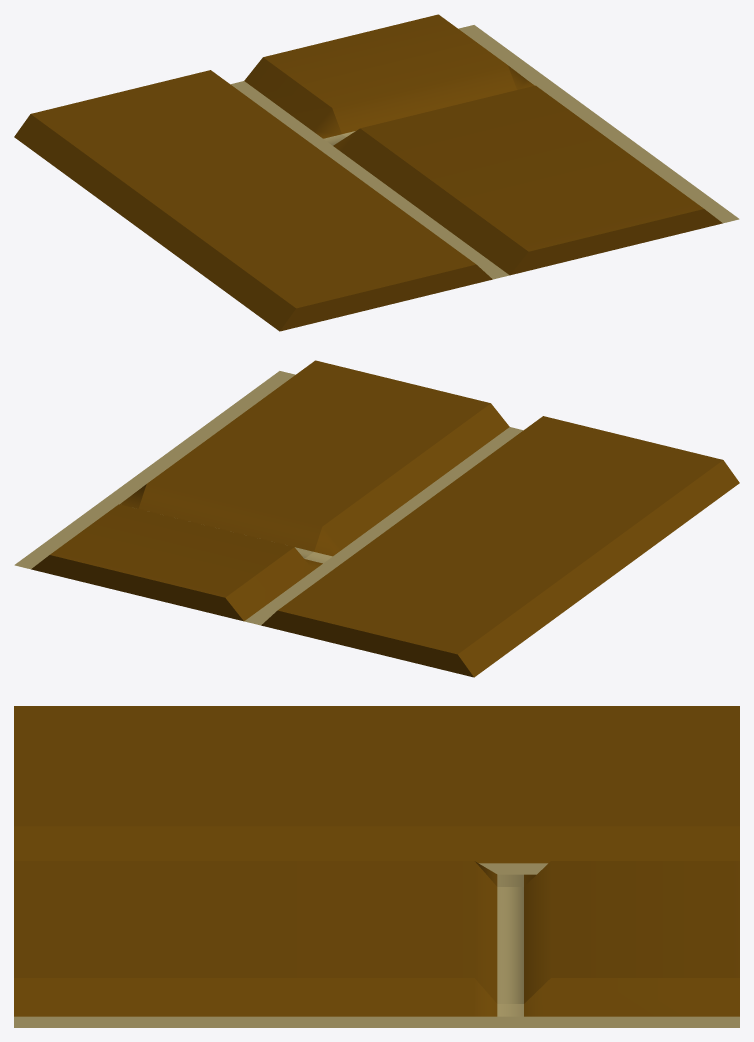
Rendered from PlancheB.fbx.
The picture shows the model from 3 angles, top to bottom: view 1: azimuth 30°, elevation 25°; view 2: azimuth 150°, elevation 25°; view 3: azimuth 270°, elevation 25°; orthographic projection. The views are drawn at different scales.
Parts seen in each view (by area): view 1: pPlane1; view 2: pPlane1; view 3: pPlane1.
Part boxes in pixels (x1,y1,x2,y2): pPlane1: (14,14,739,331); pPlane1: (14,360,739,677); pPlane1: (14,706,739,1027).
Size of the model in its own units: 1 by 0.0396 by 1.
